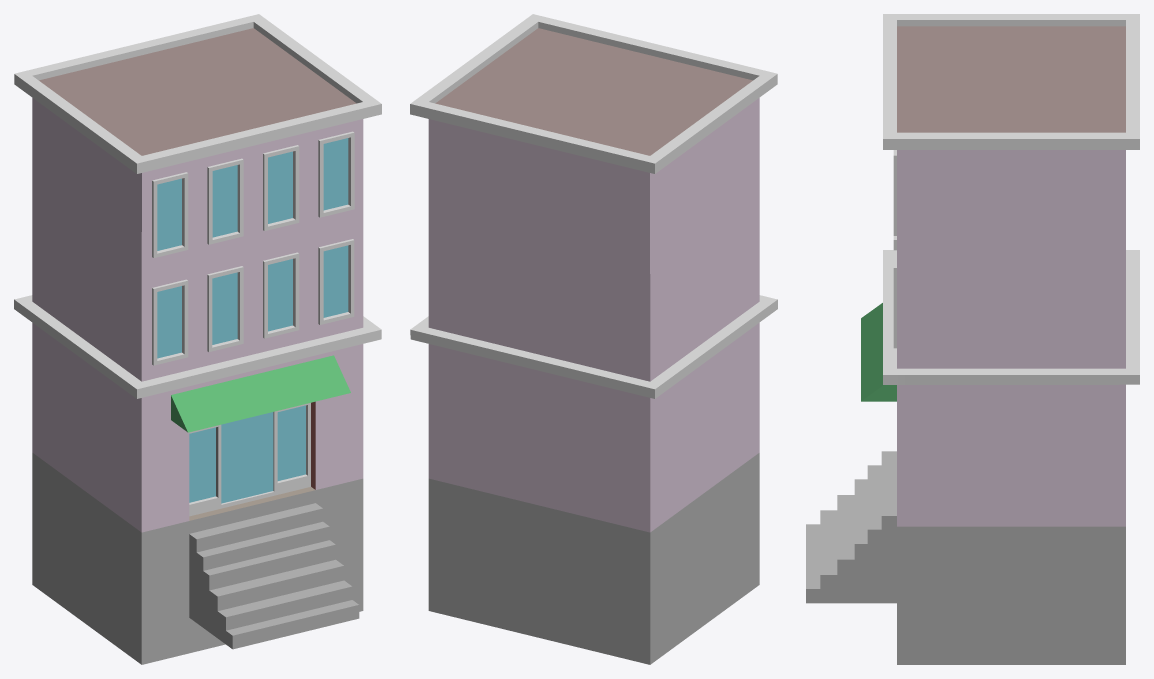
3 renders of one model, left to right at view 1: azimuth 30°, elevation 25°; view 2: azimuth 150°, elevation 25°; view 3: azimuth 270°, elevation 25°, orthographic. The views are drawn at different scales.
Visible parts, largest first — view 1: pCube18; view 2: pCube18; view 3: pCube18.
Part boxes in pixels (x1,y1,x2,y2): pCube18: [14, 14, 381, 664]; pCube18: [410, 14, 777, 664]; pCube18: [806, 14, 1139, 664].
Size of the model in its own units: 619 by 1230 by 699.
